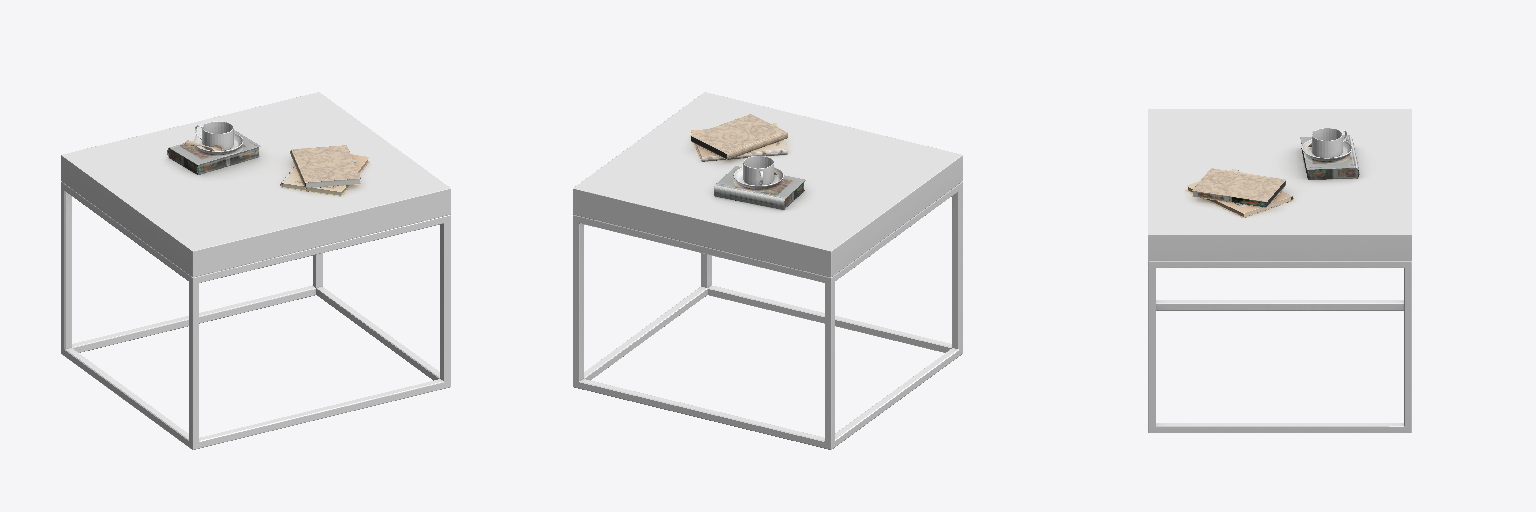
The picture shows the model from 3 angles: view 1: azimuth 30°, elevation 25°; view 2: azimuth 150°, elevation 25°; view 3: azimuth 270°, elevation 25°; orthographic projection.
Visible parts, largest first — view 1: solid_002, solid_005, solid_001, solid_004, solid_003; view 2: solid_002, solid_005, solid_001, solid_004, solid_003; view 3: solid_002, solid_005, solid_004, solid_001, solid_003.
Boxes of the visible parts, <box> form: solid_002: <box>61,92,450,449</box>; solid_005: <box>185,140,360,188</box>; solid_001: <box>167,130,260,174</box>; solid_004: <box>193,121,242,154</box>; solid_003: <box>280,154,369,195</box>; solid_002: <box>573,92,962,449</box>; solid_005: <box>691,114,787,182</box>; solid_001: <box>714,166,805,209</box>; solid_004: <box>733,156,783,188</box>; solid_003: <box>691,123,787,161</box>; solid_002: <box>1148,109,1411,432</box>; solid_005: <box>1192,143,1311,207</box>; solid_004: <box>1302,128,1351,161</box>; solid_001: <box>1300,135,1359,179</box>; solid_003: <box>1186,169,1293,217</box>.
Size of the model in its own units: 0.7221 by 0.6119 by 0.6383.
Materials: 1 (1 with a texture image).